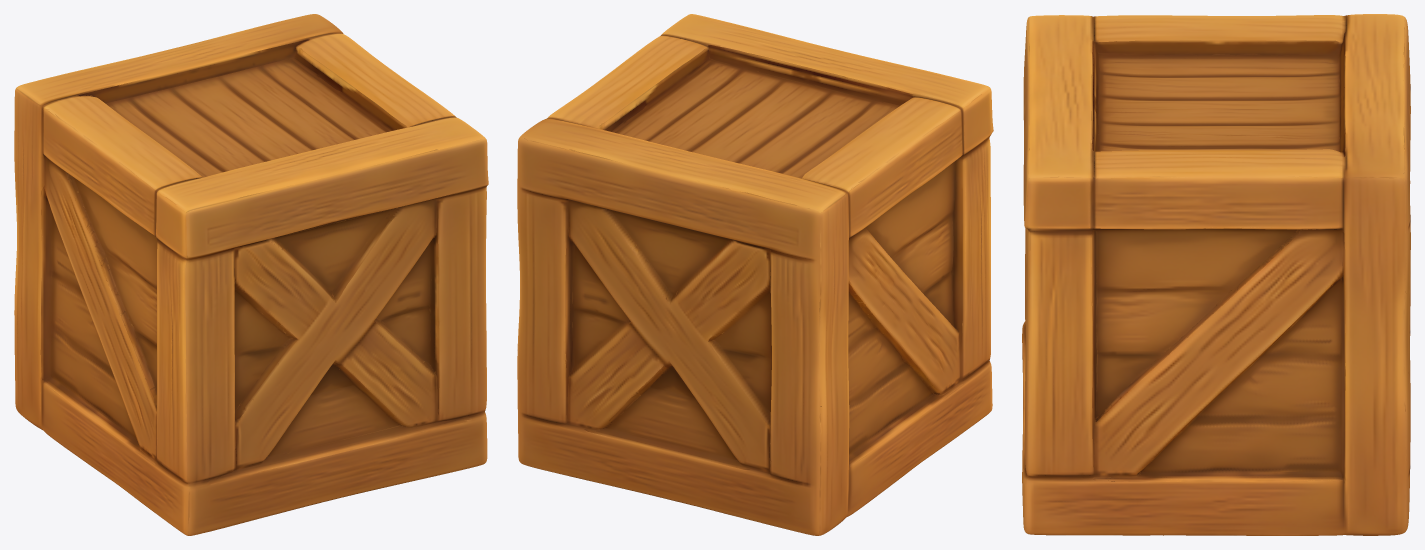
The model's file is base_basic_shaded.fbx.
The picture shows the model from 3 angles, left to right: view 1: azimuth 30°, elevation 25°; view 2: azimuth 150°, elevation 25°; view 3: azimuth 270°, elevation 25°; orthographic projection. The views are drawn at different scales.
Parts seen in each view (by area): view 1: model; view 2: model; view 3: model.
Boxes of the visible parts, x1=… form: model: x1=14, y1=14, x2=488, y2=535; model: x1=517, y1=14, x2=993, y2=535; model: x1=1022, y1=14, x2=1410, y2=535.
Size of the model in its own units: 162 by 167 by 161.
